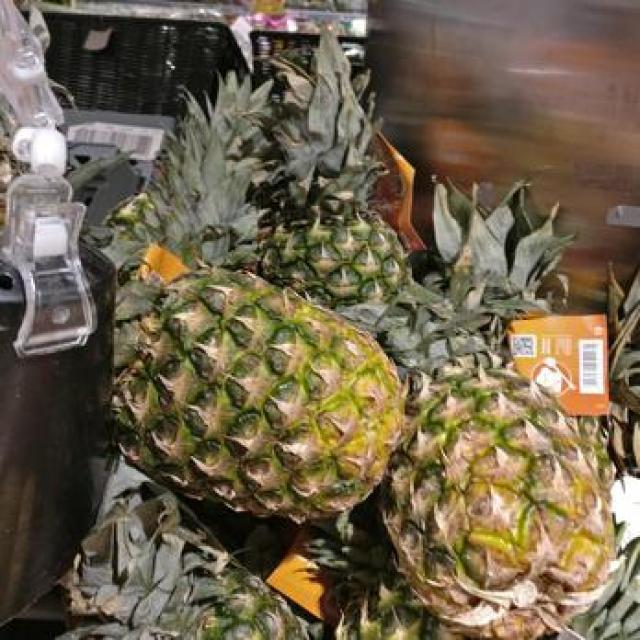pineapple: (384, 190, 614, 639), (118, 268, 404, 522), (248, 32, 410, 324)
